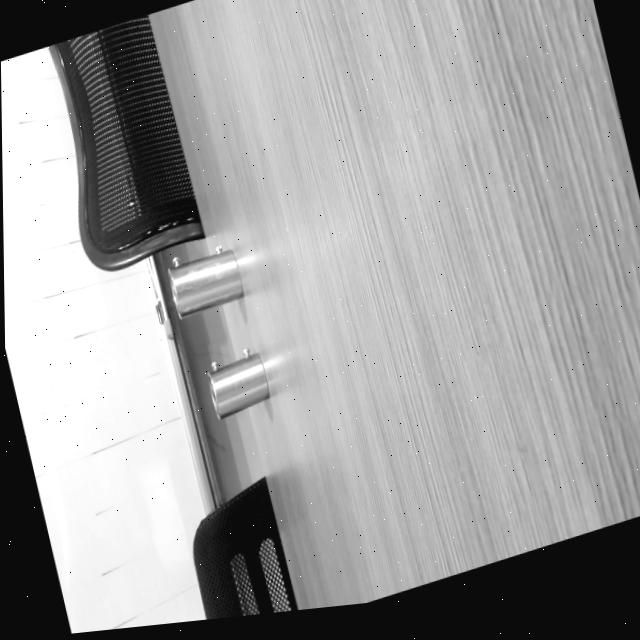Co_Lon: (159, 239, 246, 318)
Co_Nho: (201, 345, 272, 420)
